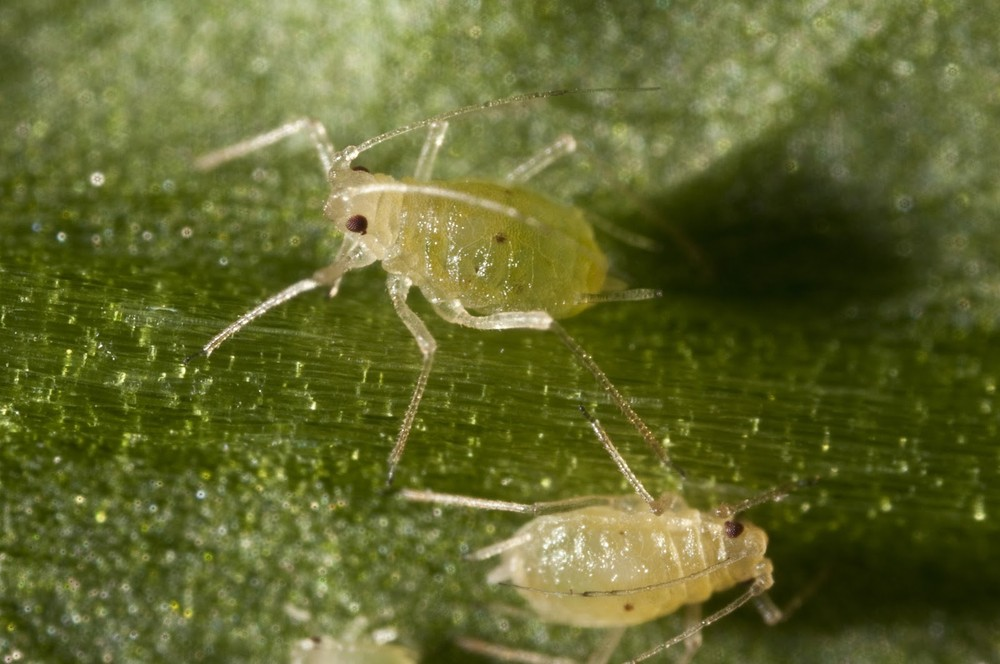Pulgon: (201, 89, 693, 444), (405, 444, 843, 664)
